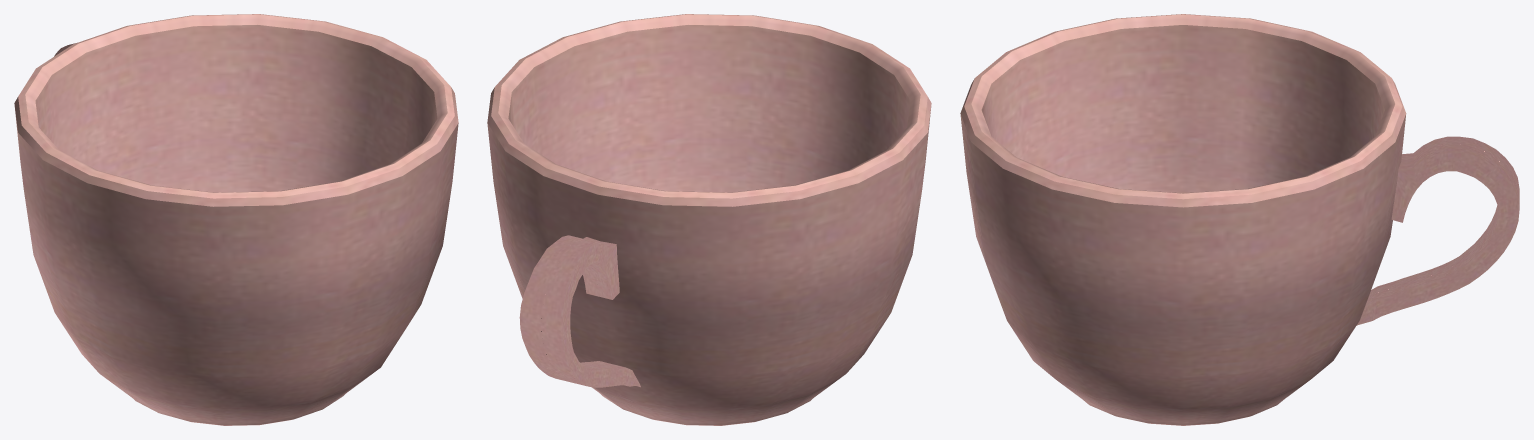
The model's file is mugcup_c02.fbx.
3 views of the same model, side by side, from view 1: azimuth 30°, elevation 25°; view 2: azimuth 150°, elevation 25°; view 3: azimuth 270°, elevation 25° (orthographic).
Visible parts, largest first — view 1: mugcup_c02; view 2: mugcup_c02; view 3: mugcup_c02.
Part boxes in pixels (x1,y1,x2,y2): mugcup_c02: (14, 14, 458, 425); mugcup_c02: (487, 14, 931, 425); mugcup_c02: (960, 14, 1519, 425).
Bounding box in the file's own units: 11.72 × 7.98 × 14.69.
1 material, 1 textured.
